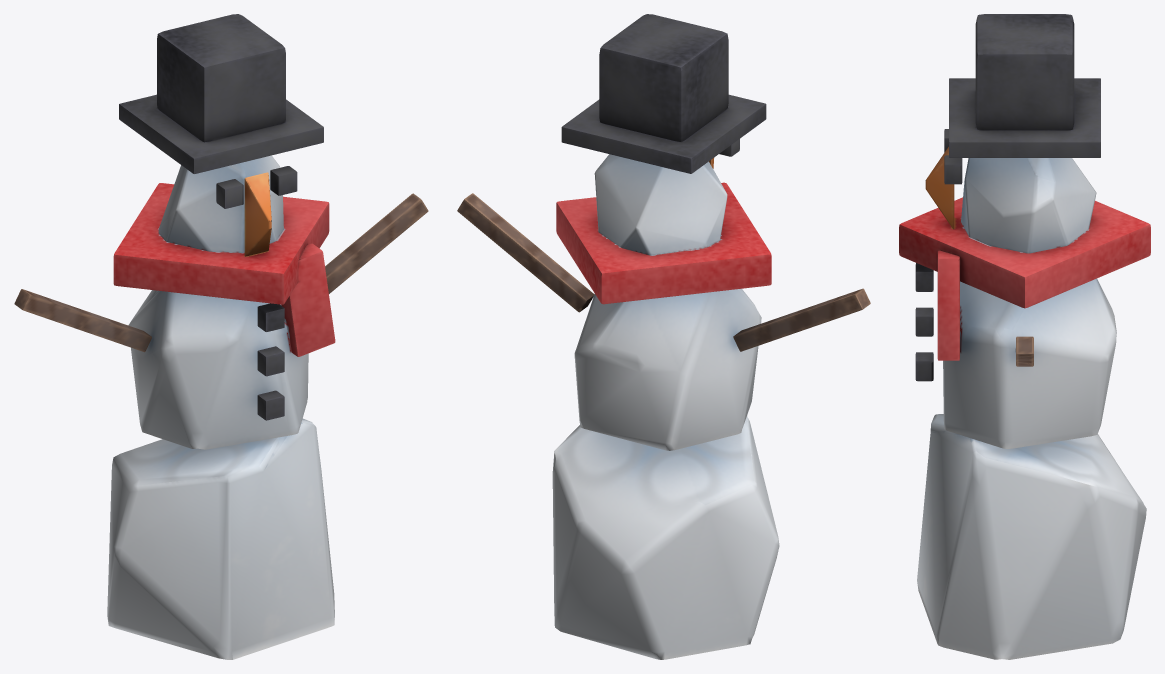
File: Glace_Bonhomme.fbx
The picture shows the model from 3 angles, left to right: view 1: azimuth 30°, elevation 25°; view 2: azimuth 150°, elevation 25°; view 3: azimuth 270°, elevation 25°; orthographic projection.
Parts seen in each view (by area): view 1: Glace_Bonhomme; view 2: Glace_Bonhomme; view 3: Glace_Bonhomme.
Boxes of the visible parts, x1,y1,x2,y2 form: Glace_Bonhomme: [14, 14, 428, 659]; Glace_Bonhomme: [457, 14, 870, 659]; Glace_Bonhomme: [899, 14, 1150, 659].
Size of the model in its own units: 529 by 715 by 281.
Materials: 1 (1 with a texture image).
